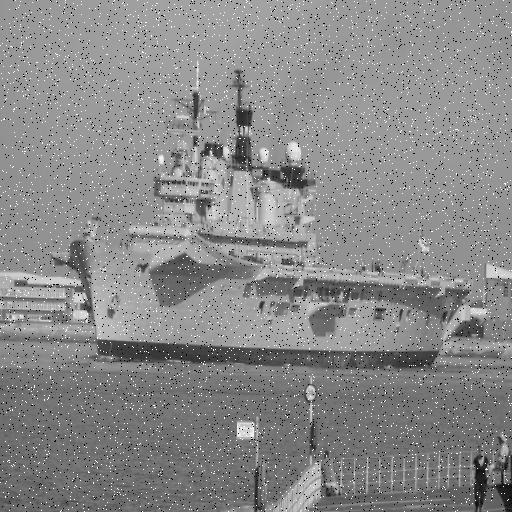Portanaves: (43, 53, 472, 375)
